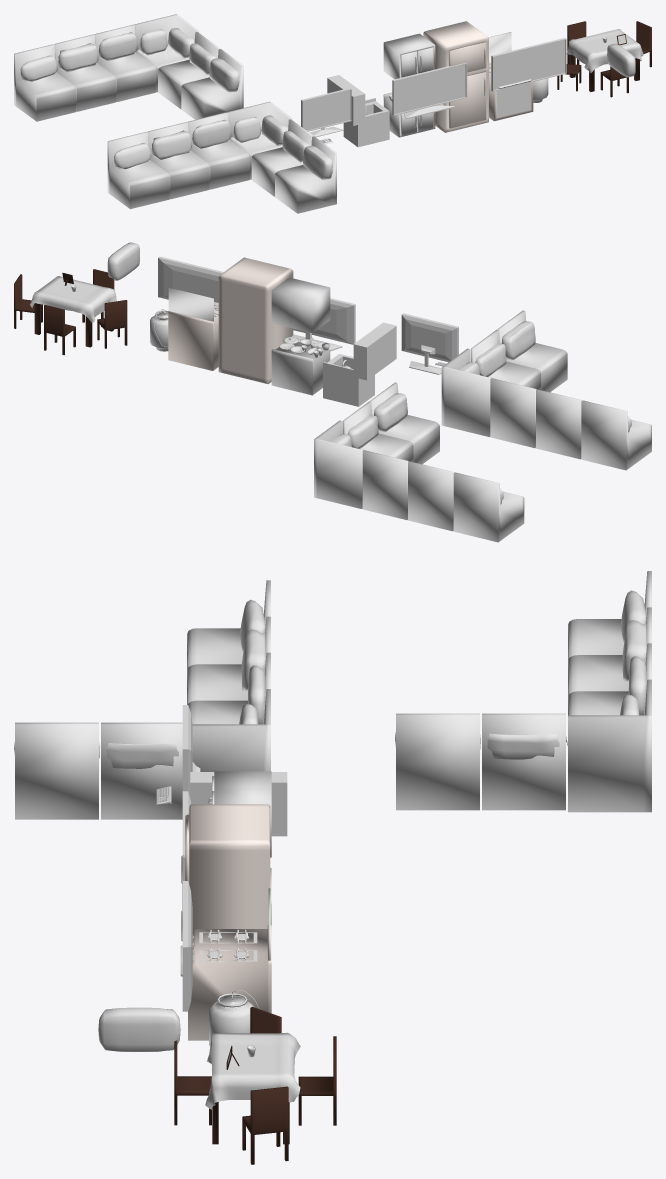
File: sofa.fbx
3 renders of one model, top to bottom at view 1: azimuth 30°, elevation 25°; view 2: azimuth 150°, elevation 25°; view 3: azimuth 270°, elevation 25°, orthographic. The views are drawn at different scales.
Visible parts, largest first — view 1: Cube.031, Cube.032, Cube.046, Cube.048, Cube.037, Cube.017, Cube.034, Cube.033, Cube.008, Cube.050, Cube.036, Cube.001 (+23 smaller); view 2: Cube.031, Cube.017, Cube.032, Cube.008, Cube.035, Cube.034, Cube.033, Cube.022, Cube.029, Cube.001, Cube.050, Cube.048 (+13 smaller); view 3: Cube.031, Cube.017, Cube.037, Cube.036, Cube.008, Cube.001, Cube.035, Cube.039, Cube.033, Cube.003, Cube.032, Cube.022 (+9 smaller).
Part boxes in pixels (x1,y1,x2,y2): Cube.031: [14, 14, 243, 121]; Cube.032: [107, 131, 169, 209]; Cube.046: [392, 62, 467, 115]; Cube.048: [491, 38, 566, 91]; Cube.037: [275, 136, 336, 213]; Cube.017: [423, 21, 488, 132]; Cube.034: [188, 112, 249, 189]; Cube.033: [147, 122, 209, 199]; Cube.008: [488, 32, 533, 121]; Cube.050: [301, 88, 351, 131]; Cube.036: [251, 119, 313, 196]; Cube.001: [566, 29, 643, 73]; Cube.031: [314, 382, 524, 542]; Cube.017: [218, 257, 293, 384]; Cube.032: [581, 400, 651, 470]; Cube.008: [168, 287, 218, 370]; Cube.035: [441, 348, 490, 436]; Cube.034: [490, 378, 536, 448]; Cube.033: [536, 389, 581, 459]; Cube.022: [271, 277, 330, 333]; Cube.029: [271, 342, 330, 395]; Cube.001: [30, 276, 116, 322]; Cube.050: [401, 313, 458, 362]; Cube.048: [158, 256, 223, 302]; Cube.031: [395, 571, 651, 812]; Cube.017: [189, 804, 270, 931]; Cube.037: [15, 722, 98, 819]; Cube.036: [101, 722, 182, 819]; Cube.008: [188, 888, 271, 1040]; Cube.001: [205, 1032, 300, 1109]; Cube.035: [192, 689, 270, 771]; Cube.039: [98, 1007, 180, 1051]; Cube.033: [187, 616, 270, 704]; Cube.003: [242, 1086, 288, 1164]; Cube.032: [187, 580, 270, 669]; Cube.022: [214, 771, 271, 857].
Size of the model in its own units: 14805 by 2271 by 8213.
